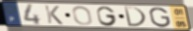4: (22, 3, 44, 26)
D: (123, 6, 148, 28)
G: (95, 5, 119, 27), (148, 7, 173, 28)
K: (43, 4, 65, 25)
O: (71, 5, 94, 26)
